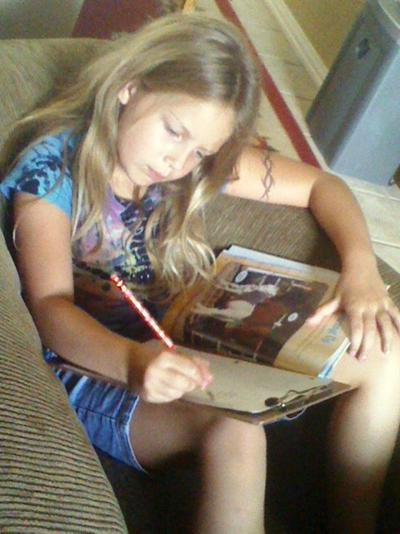person: (8, 9, 399, 533)
